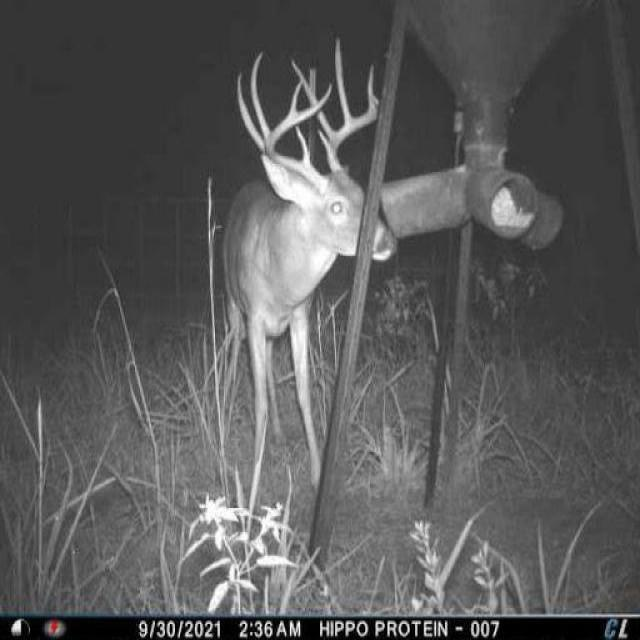deer: (212, 30, 402, 534)
